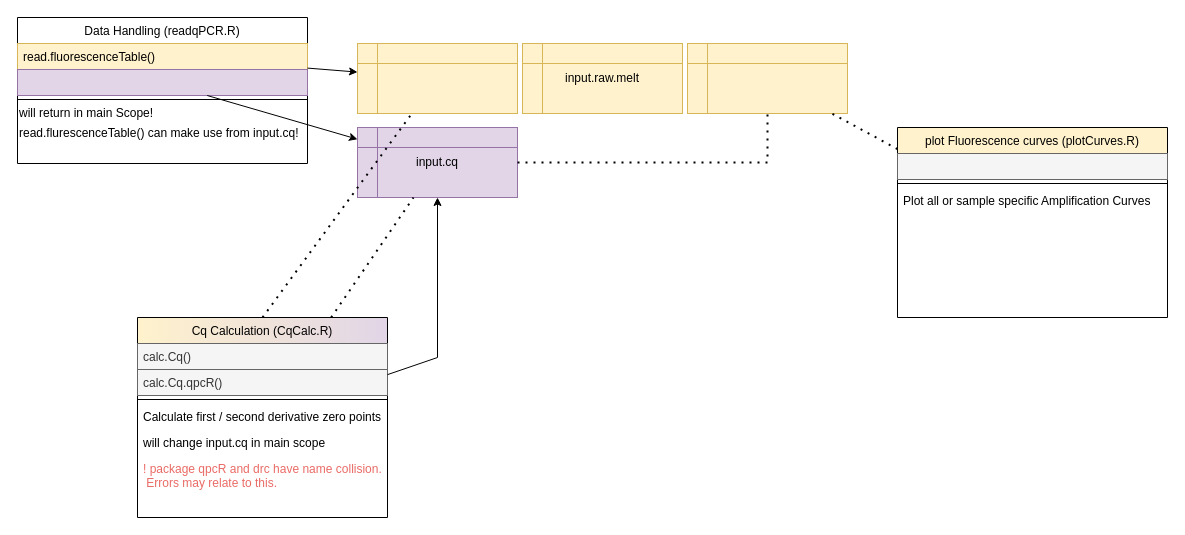
Some shapes in this 1185 by 535 pixel diagram are drawn without their labels. Here are the shapes that lost their labels. From the top down, the centre of each, then its label:
At point 162,82: "read.cqTable()".
At point 437,78: "input.raw".
At point 767,78: "input.raw.melt.usedOnly".
At point 1032,166: "plot.curve()".
